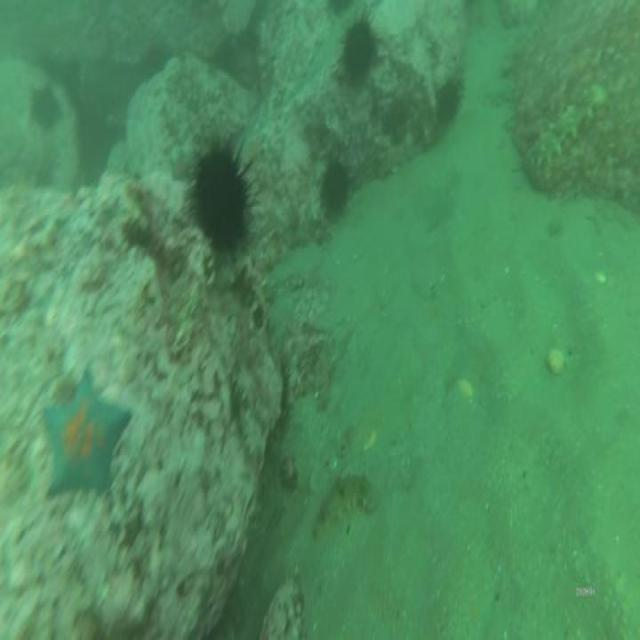echinus: (184, 136, 264, 257), (336, 6, 383, 87), (319, 152, 355, 221), (436, 76, 466, 129)
holothurian: (526, 84, 609, 169), (313, 473, 380, 534)
starfish: (36, 368, 132, 501)
